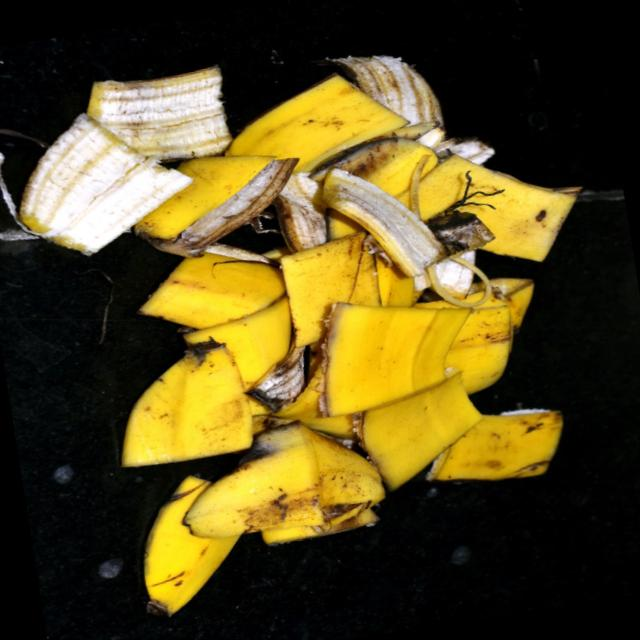banana_peel: (0, 23, 609, 628)
